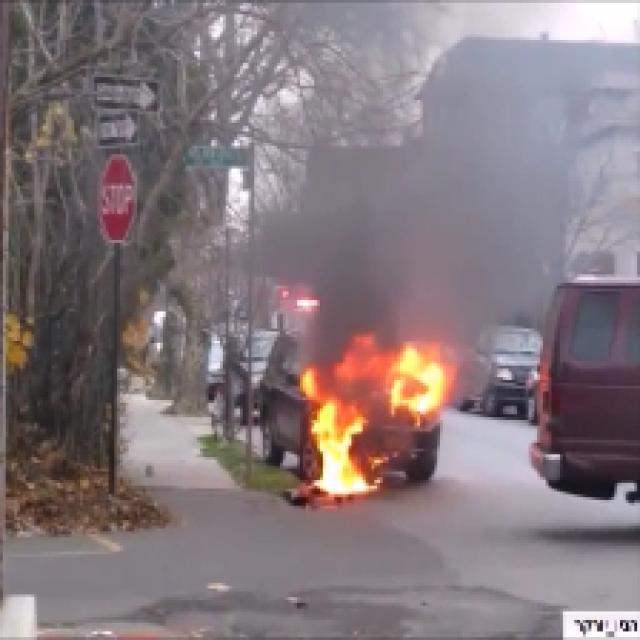fire: (309, 341, 440, 492)
smoke: (331, 166, 523, 339), (443, 75, 532, 166)
